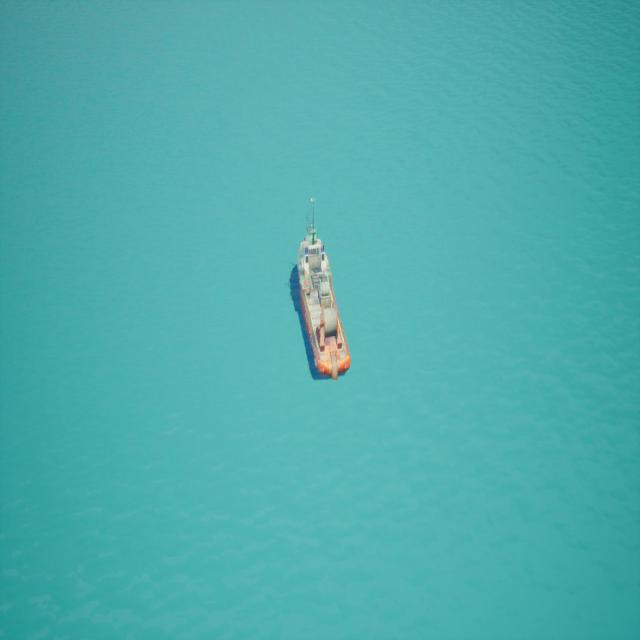tug boat: (288, 200, 352, 382)
